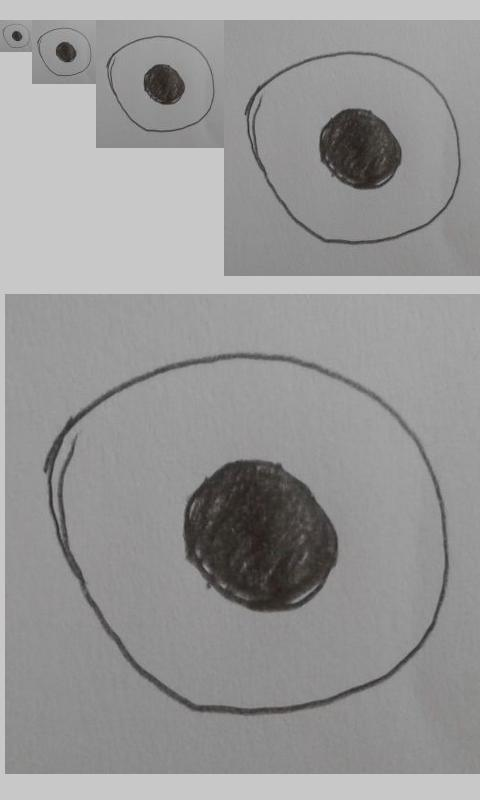radio_button: (41, 348, 452, 719), (242, 50, 463, 247), (105, 34, 215, 133), (37, 27, 93, 77), (1, 22, 31, 49)
